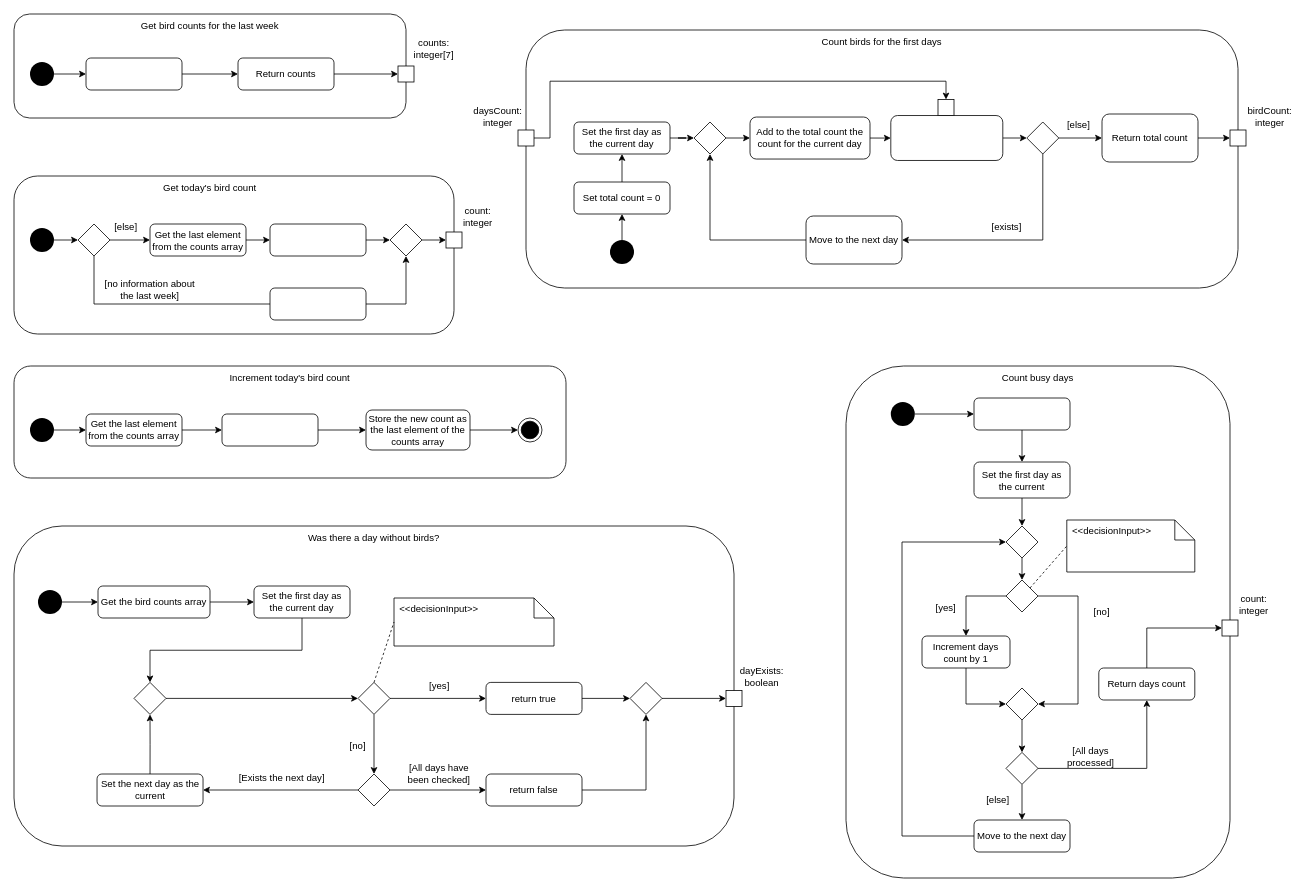
Image size: 1316x892. Some labels were removed from this diagram. The shapes that lost their labels are listed below. From the top down, each one's centre as x and y in pixels, then its label:
(x=133, y=73): Make a copy of the current counts
(x=946, y=137): Check if there is a day to process next
(x=317, y=239): Return that count
(x=317, y=303): Return 0
(x=269, y=429): Increment that count by 1
(x=1021, y=413): Set days count = 0
(x=1130, y=545): Is the bird count for the current day >=5?
(x=473, y=621): Is the count for the current day 0?
